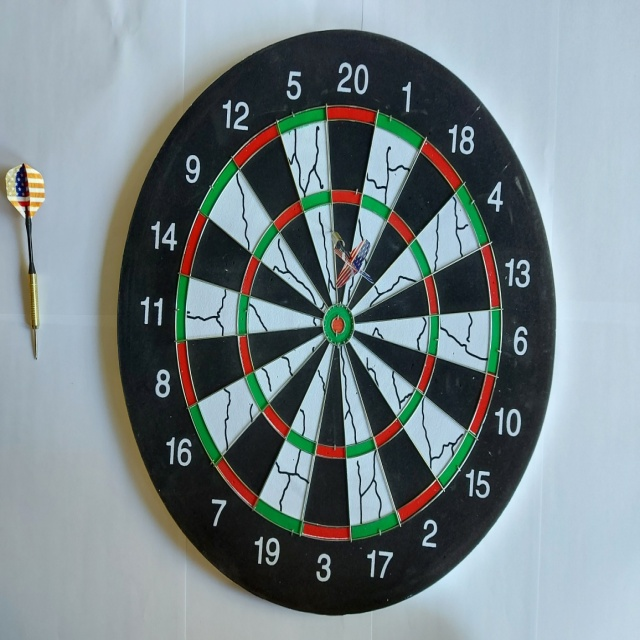Dart: (1, 160, 61, 369), (322, 218, 377, 296)
